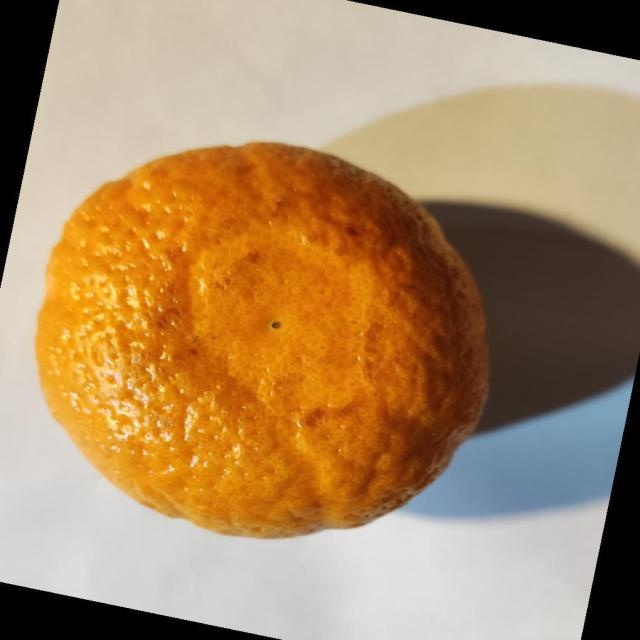agrume: (34, 139, 491, 540)
